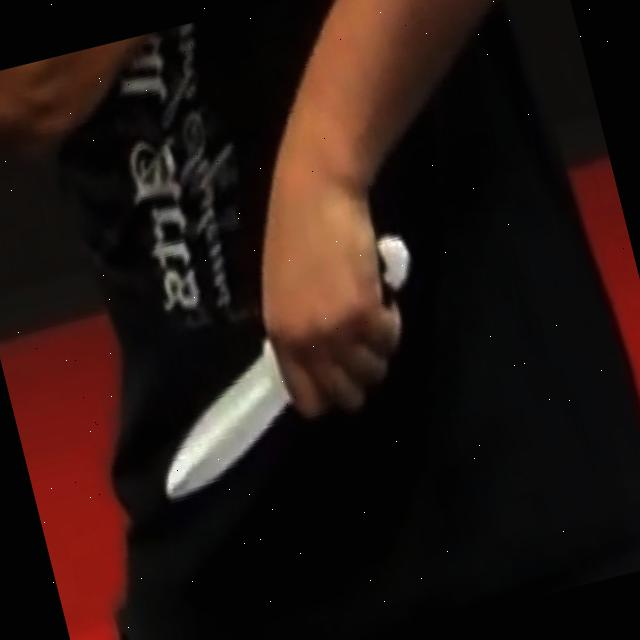suspicion: (52, 0, 640, 513), (135, 344, 296, 505), (368, 224, 426, 297)
